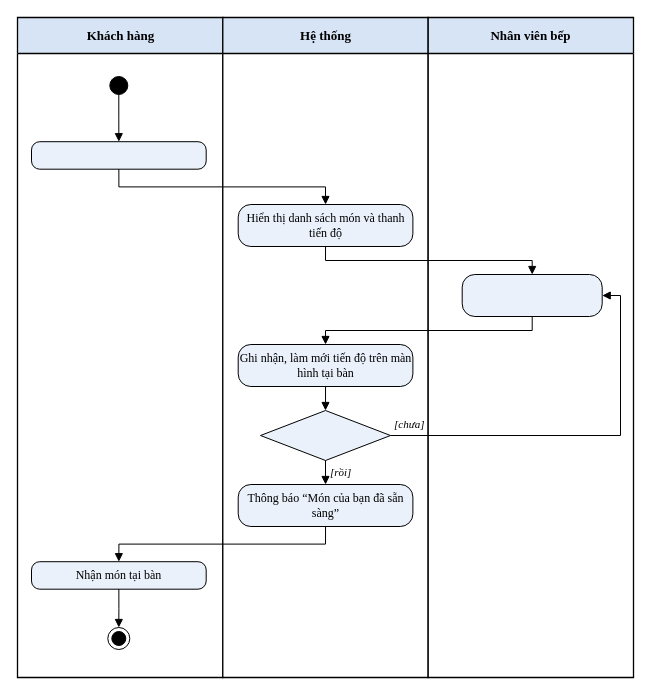
Some shapes in this 652 by 696 pixel diagram are drawn without their labels. Each missing label, with the box of its shape:
Chọn “Theo dõi đơn hàng”: (30, 141, 206, 169)
Cập nhật trạng thái chế biến: (461, 274, 602, 316)
Tất cả món hoàn thành?: (260, 410, 390, 460)
